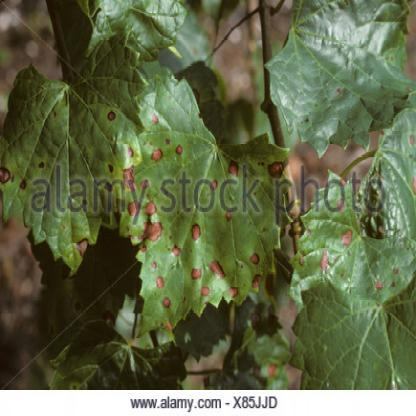grape leaf: (121, 81, 294, 354), (1, 42, 143, 266), (264, 1, 411, 152)
